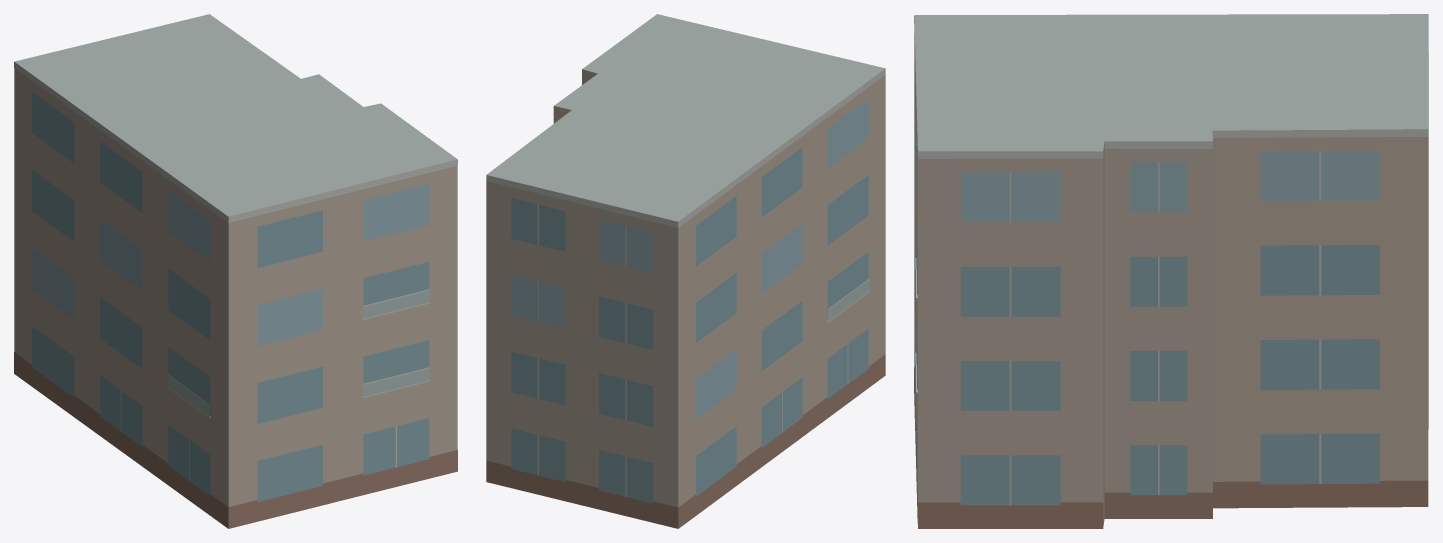
The model's file is survey-upis-32633063.glb.
3 renders of one model, left to right at view 1: azimuth 30°, elevation 25°; view 2: azimuth 150°, elevation 25°; view 3: azimuth 270°, elevation 25°, orthographic. The views are drawn at different scales.
Visible parts, largest first — view 1: survey-upis-32633063.tmp; view 2: survey-upis-32633063.tmp; view 3: survey-upis-32633063.tmp.
Boxes of the visible parts, x1,y1,x2,y2 form: survey-upis-32633063.tmp: [14, 14, 457, 528]; survey-upis-32633063.tmp: [486, 14, 885, 528]; survey-upis-32633063.tmp: [914, 14, 1428, 528].
Size of the model in its own units: 9.52 by 12.2 by 15.07.
